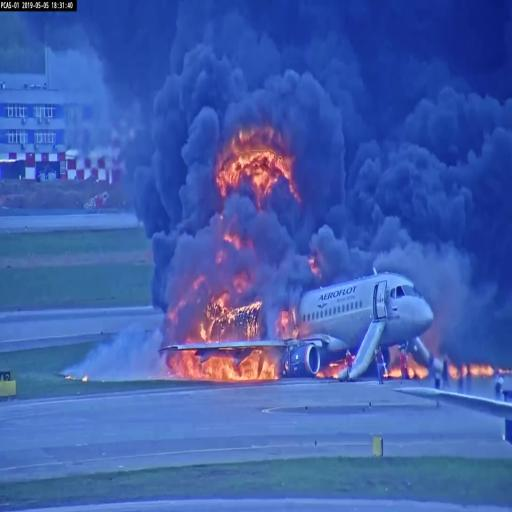fire: (178, 348, 272, 380), (228, 144, 287, 184)
smoke: (330, 89, 510, 279)
